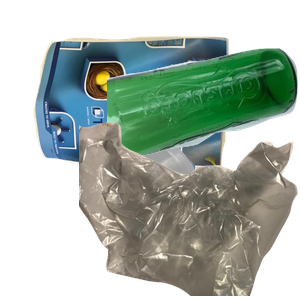glass: (107, 46, 300, 197)
paper: (31, 34, 252, 205)
plastic: (80, 120, 289, 300)
trash: (79, 120, 300, 300)
